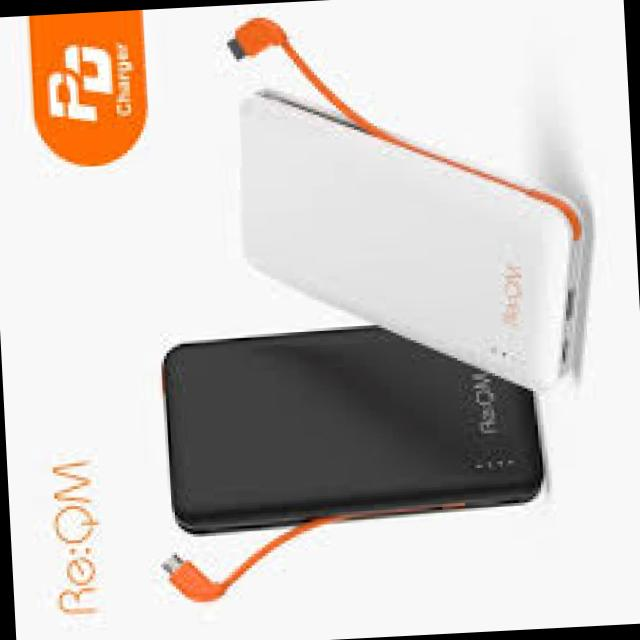power_bank: (234, 68, 598, 406), (159, 313, 548, 536)
